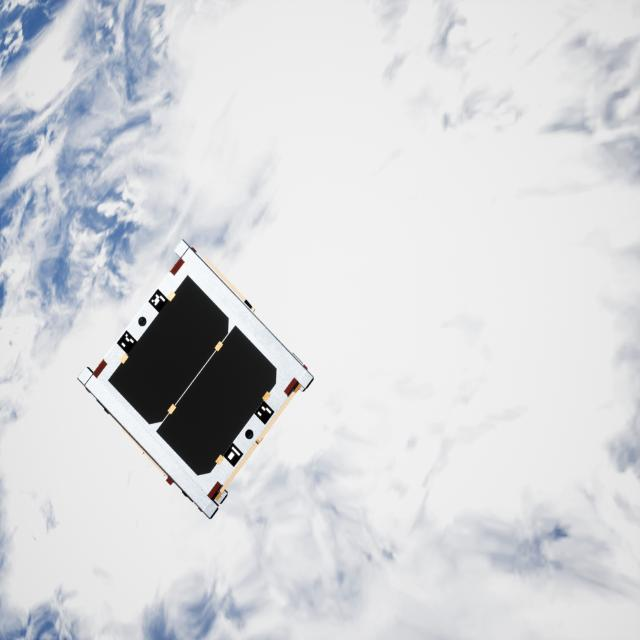medium_debris: (69, 233, 328, 522)
